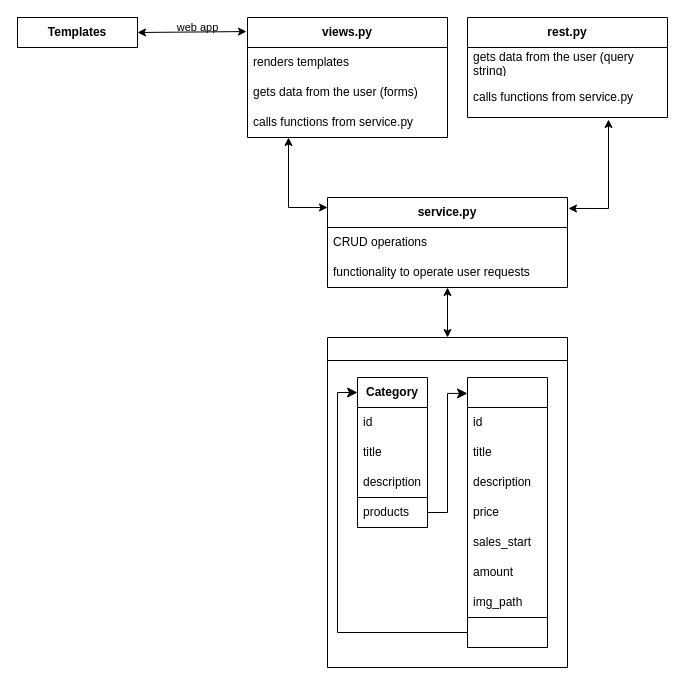
Image size: 685x685. Some labels were removed from this diagram. Here are the shapes that lost their labels. From the top down, the box of each, then its label:
(326, 336, 568, 668): Database
(466, 376, 548, 648): Product
(466, 616, 548, 648): category_id
